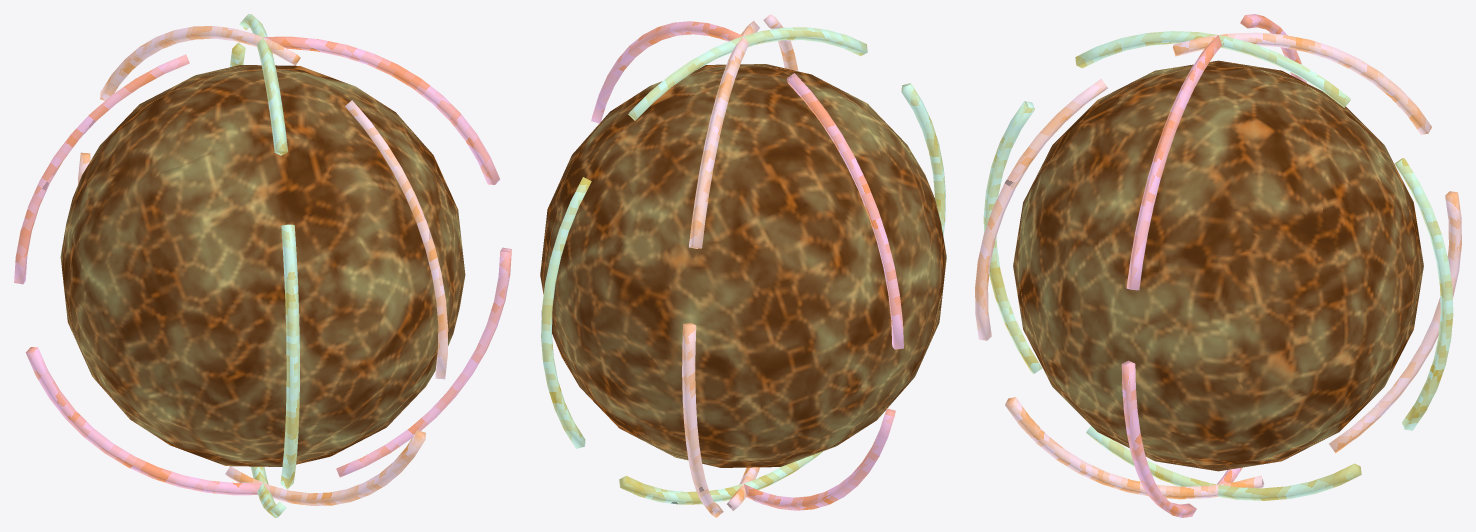
The model's file is orb_plasma.glb.
3 views of the same model, side by side, from view 1: azimuth 30°, elevation 25°; view 2: azimuth 150°, elevation 25°; view 3: azimuth 270°, elevation 25° (orthographic).
Visible parts, largest first — view 1: orb_shell, orb_ring_2, orb_ring_0, orb_ring_1; view 2: orb_shell, orb_ring_1, orb_ring_2, orb_ring_0; view 3: orb_shell, orb_ring_0, orb_ring_1, orb_ring_2.
Boxes of the visible parts, box(x1,y1,x2,y2) form: orb_shell: box(60, 65, 465, 466); orb_ring_2: box(14, 36, 511, 495); orb_ring_0: box(78, 26, 448, 505); orb_ring_1: box(230, 14, 299, 517); orb_shell: box(540, 64, 946, 467); orb_ring_1: box(541, 27, 945, 504); orb_ring_2: box(591, 21, 903, 510); orb_ring_0: box(682, 14, 798, 517); orb_shell: box(1013, 60, 1423, 471); orb_ring_0: box(975, 32, 1461, 499); orb_ring_1: box(983, 31, 1453, 500); orb_ring_2: box(1121, 14, 1306, 517).
Bounding box in the file's own units: 2.78 × 2.98 × 2.84.
Materials: 5 (5 with a texture image).
